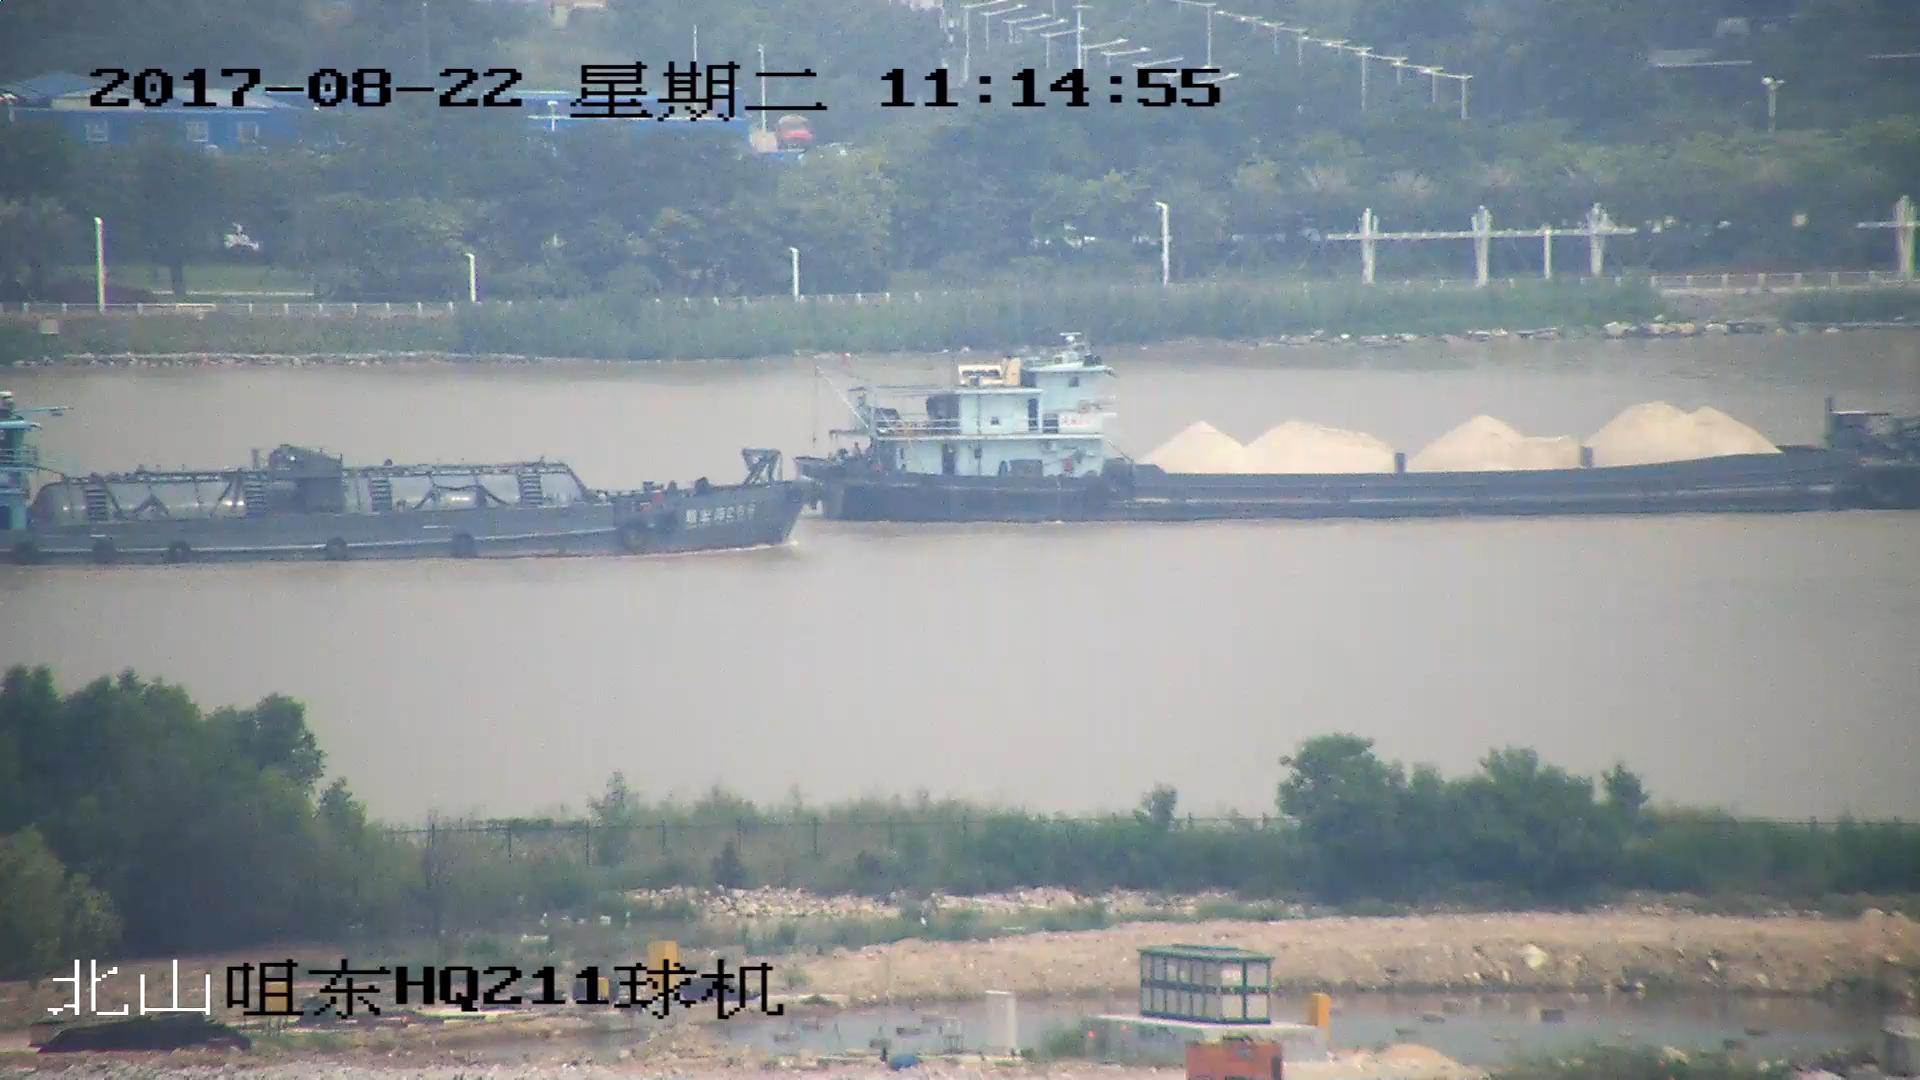bulk cargo carrier: (1, 394, 815, 565)
ore carrier: (801, 356, 1920, 525)
